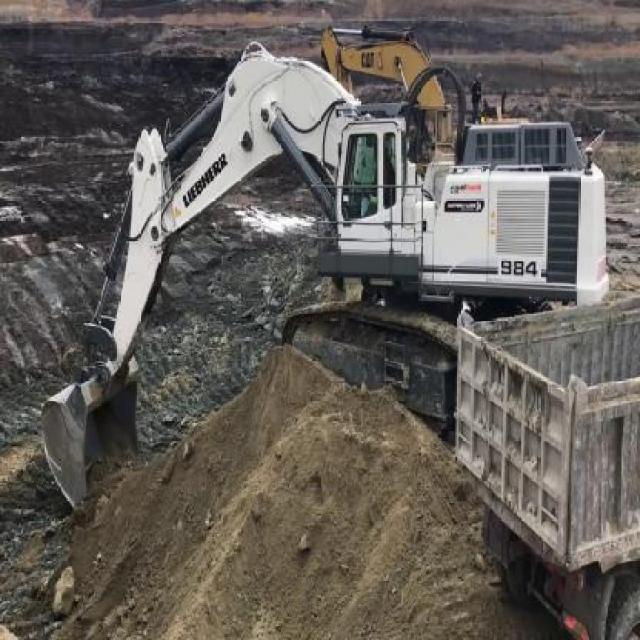Dump Truck: (451, 295, 638, 633)
Excavator: (42, 48, 607, 518)
